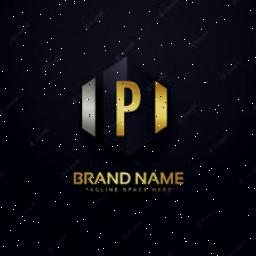a: (94, 170, 106, 186)
b: (72, 170, 84, 186)
d: (120, 170, 132, 186)
e: (174, 171, 186, 185)
m: (160, 171, 174, 185)
n: (106, 171, 120, 185)
p: (110, 75, 144, 141)
r: (84, 170, 94, 186)
